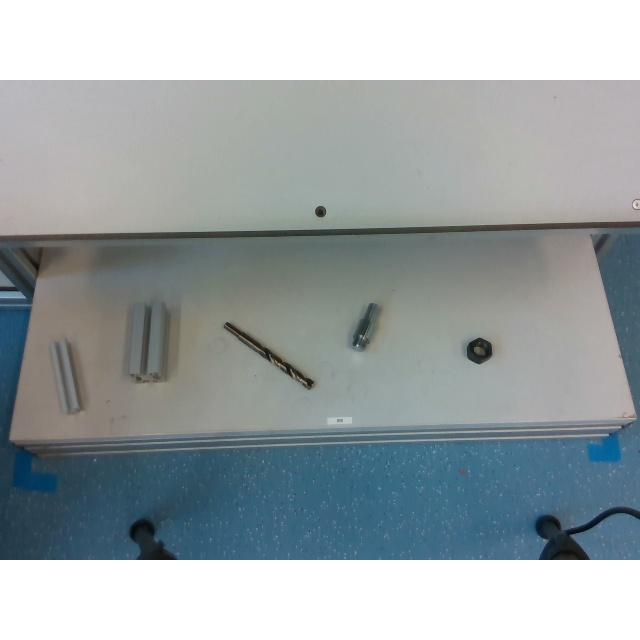Axis2: (350, 304, 378, 352)
Drill: (222, 321, 314, 389)
F20_20_G: (50, 340, 82, 412)
M20: (464, 337, 492, 363)
S40_40_G: (127, 301, 169, 381)
